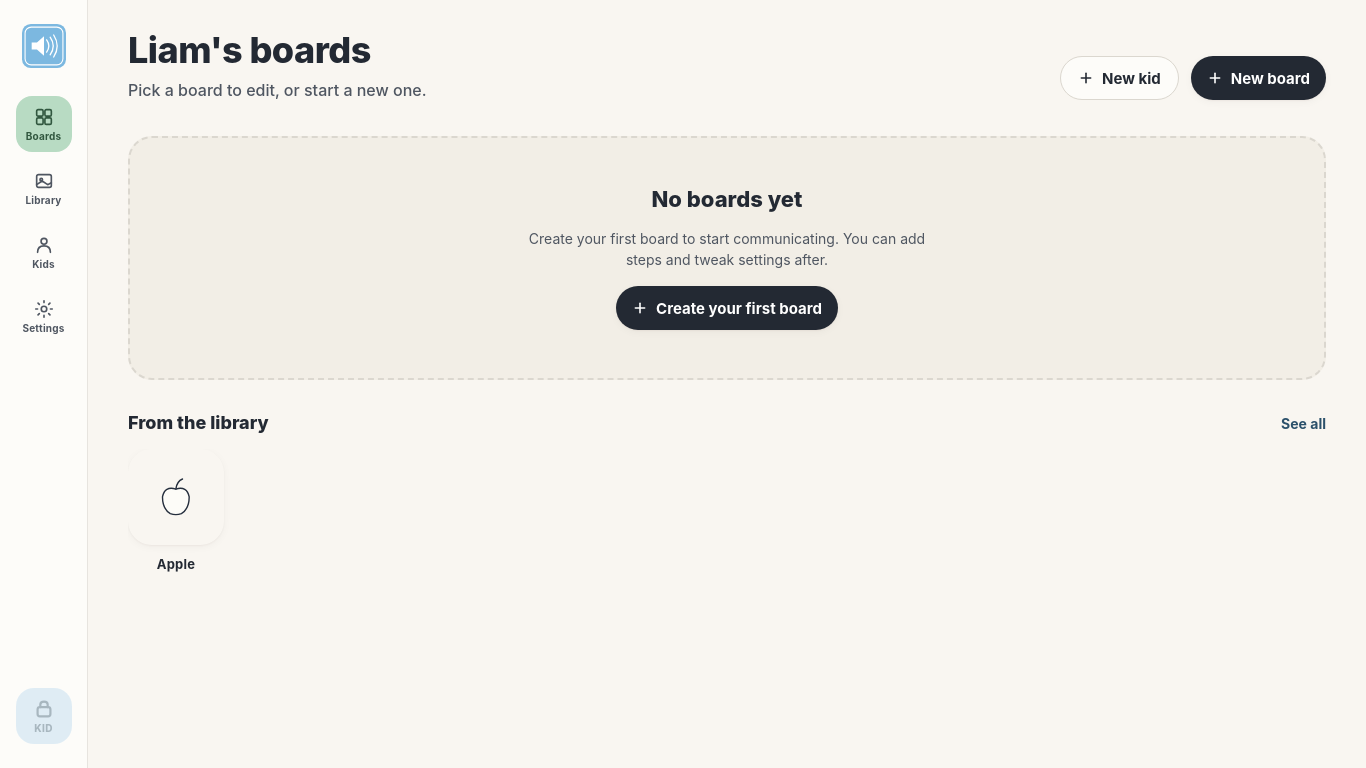
Test: ParentHomeRoute create flows › clicking New kid opens the kid modal
Click the button "New kid" at (1119, 78), box 1060,56 -> 1179,100
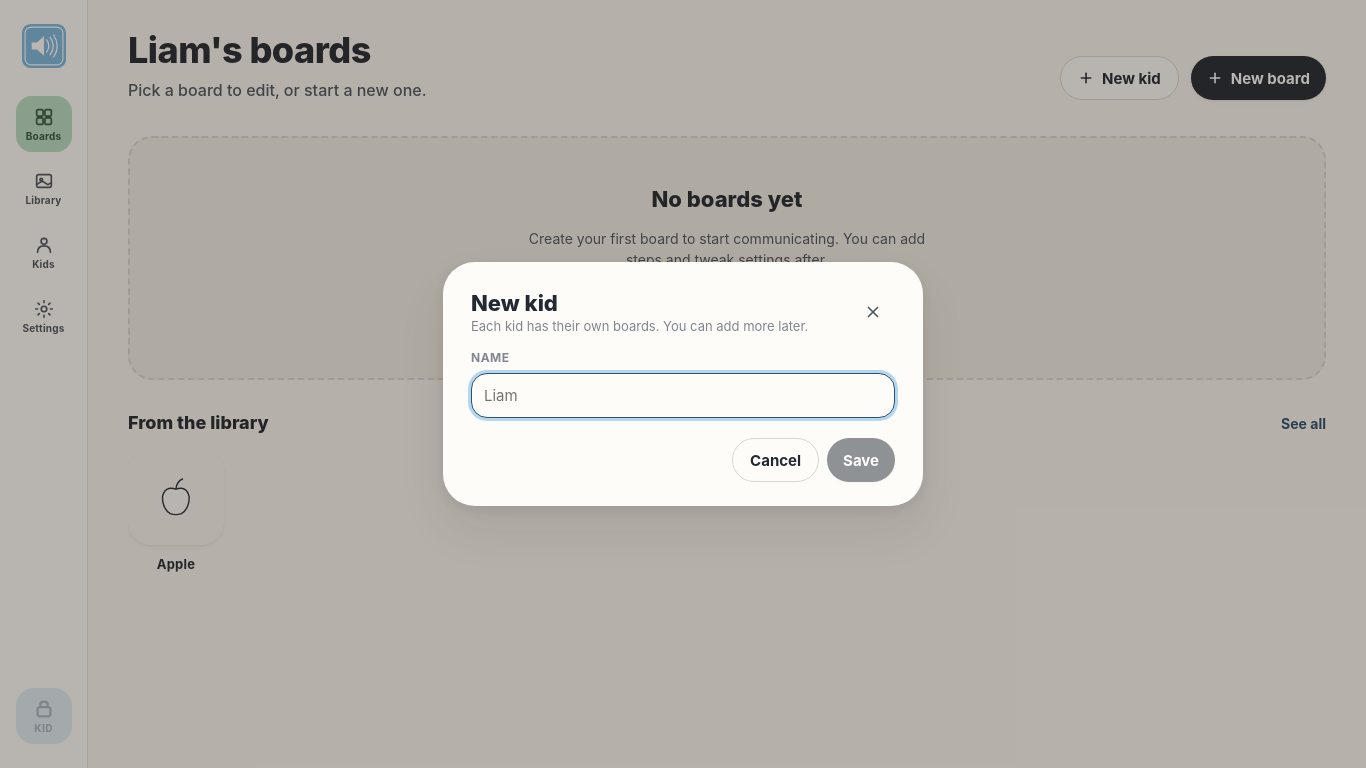
Expected: the heading "New kid" is shown, 471,290 -> 558,316
